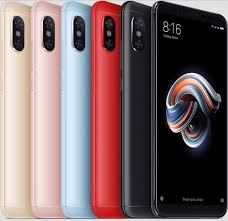mi: (150, 1, 228, 218)
